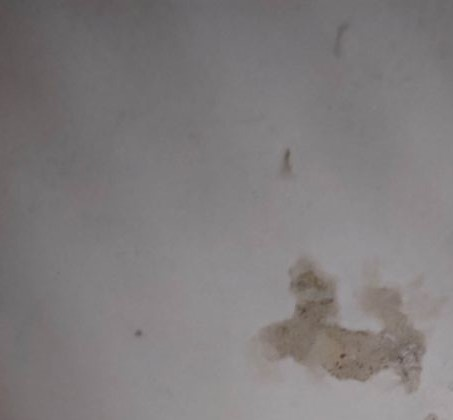grey spot: (256, 255, 426, 394), (282, 148, 290, 171)
